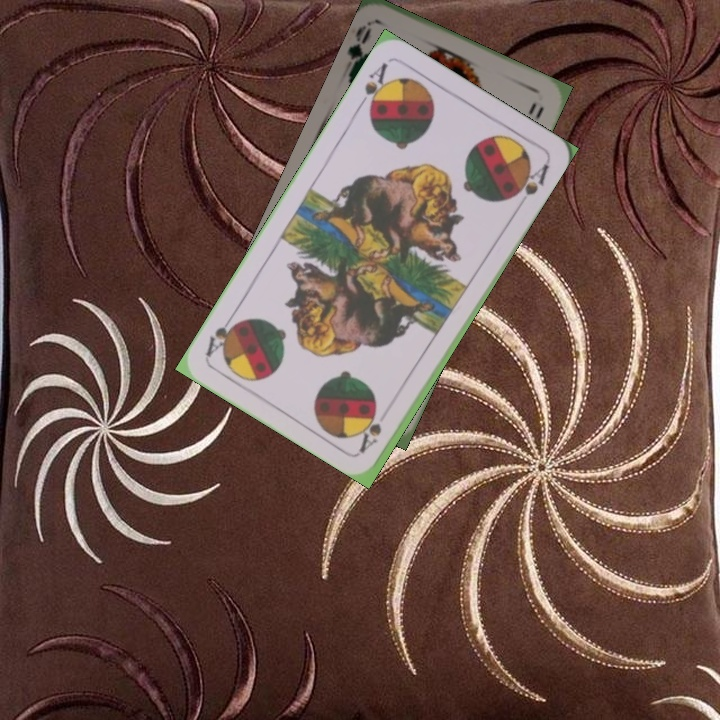GO: (344, 20, 377, 76)
SA: (353, 58, 391, 117), (355, 418, 385, 455)
